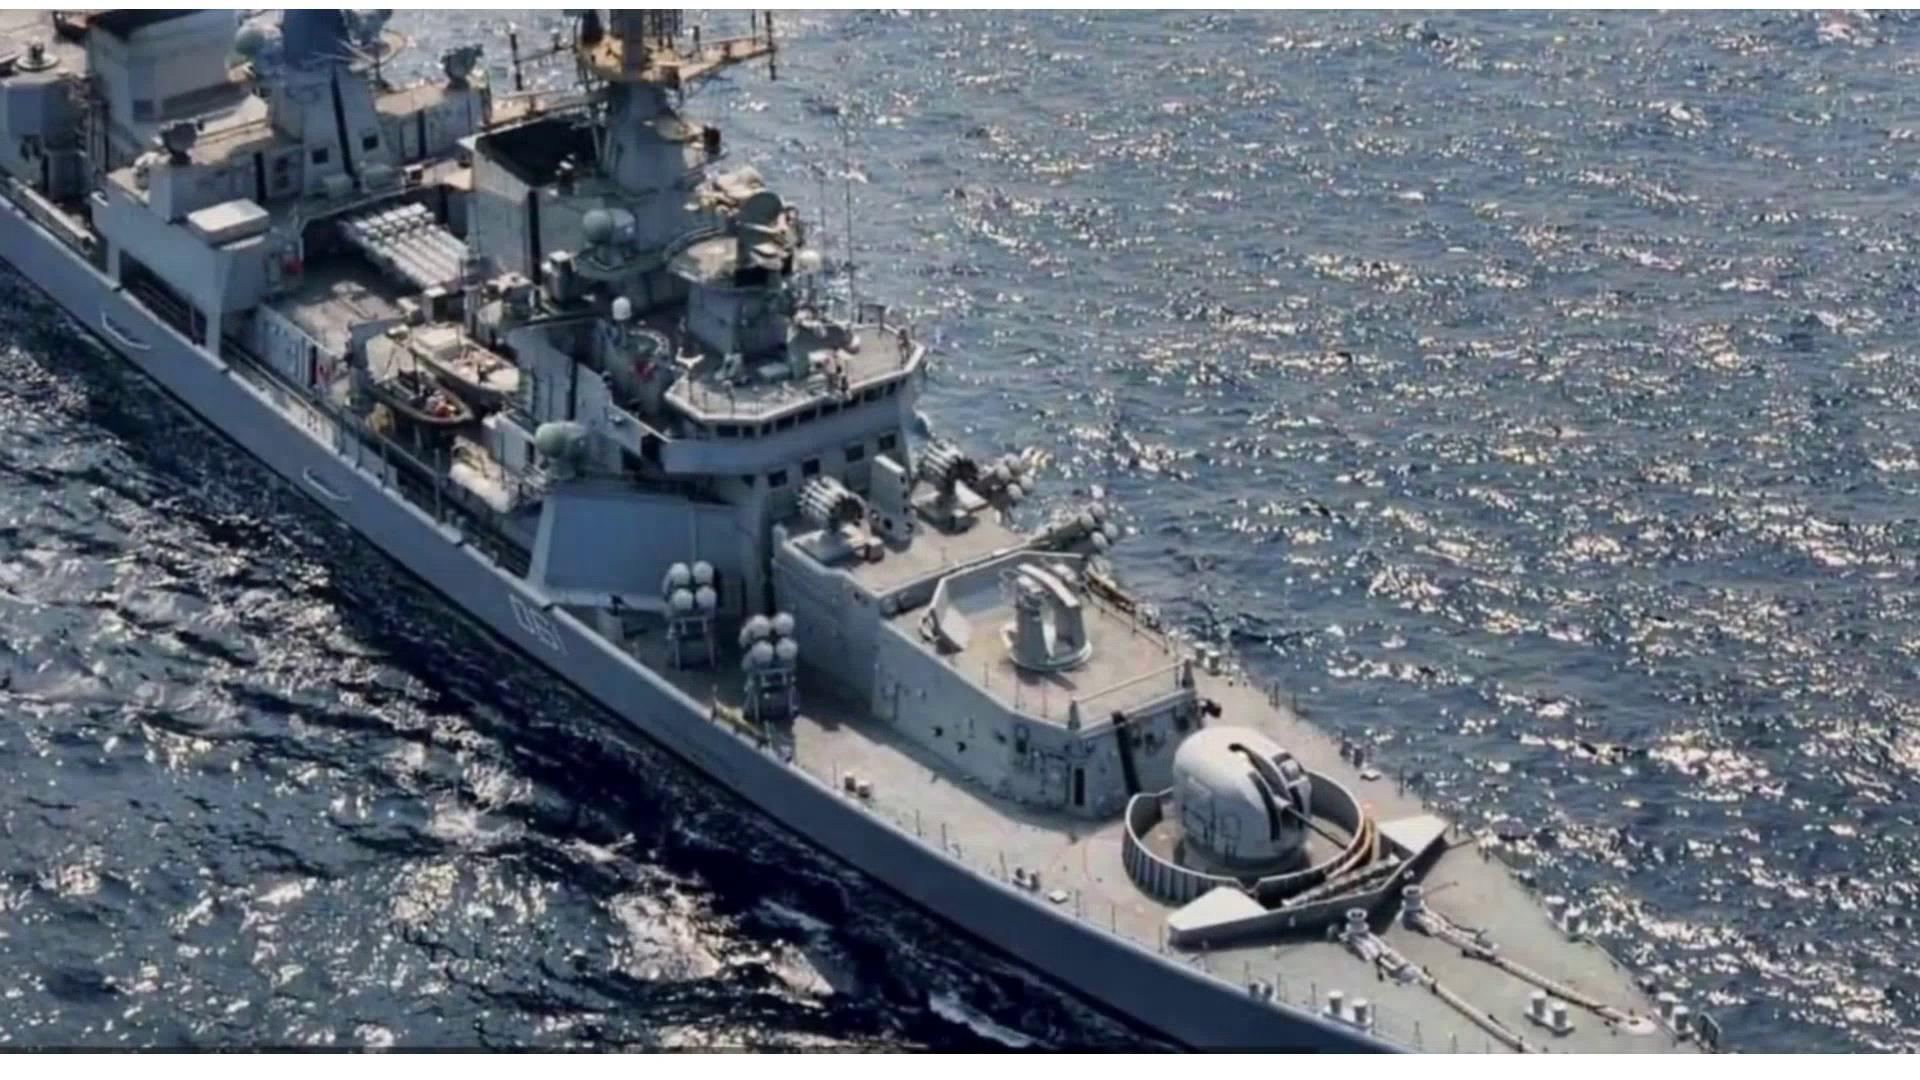OCR: (493, 579, 570, 675)
